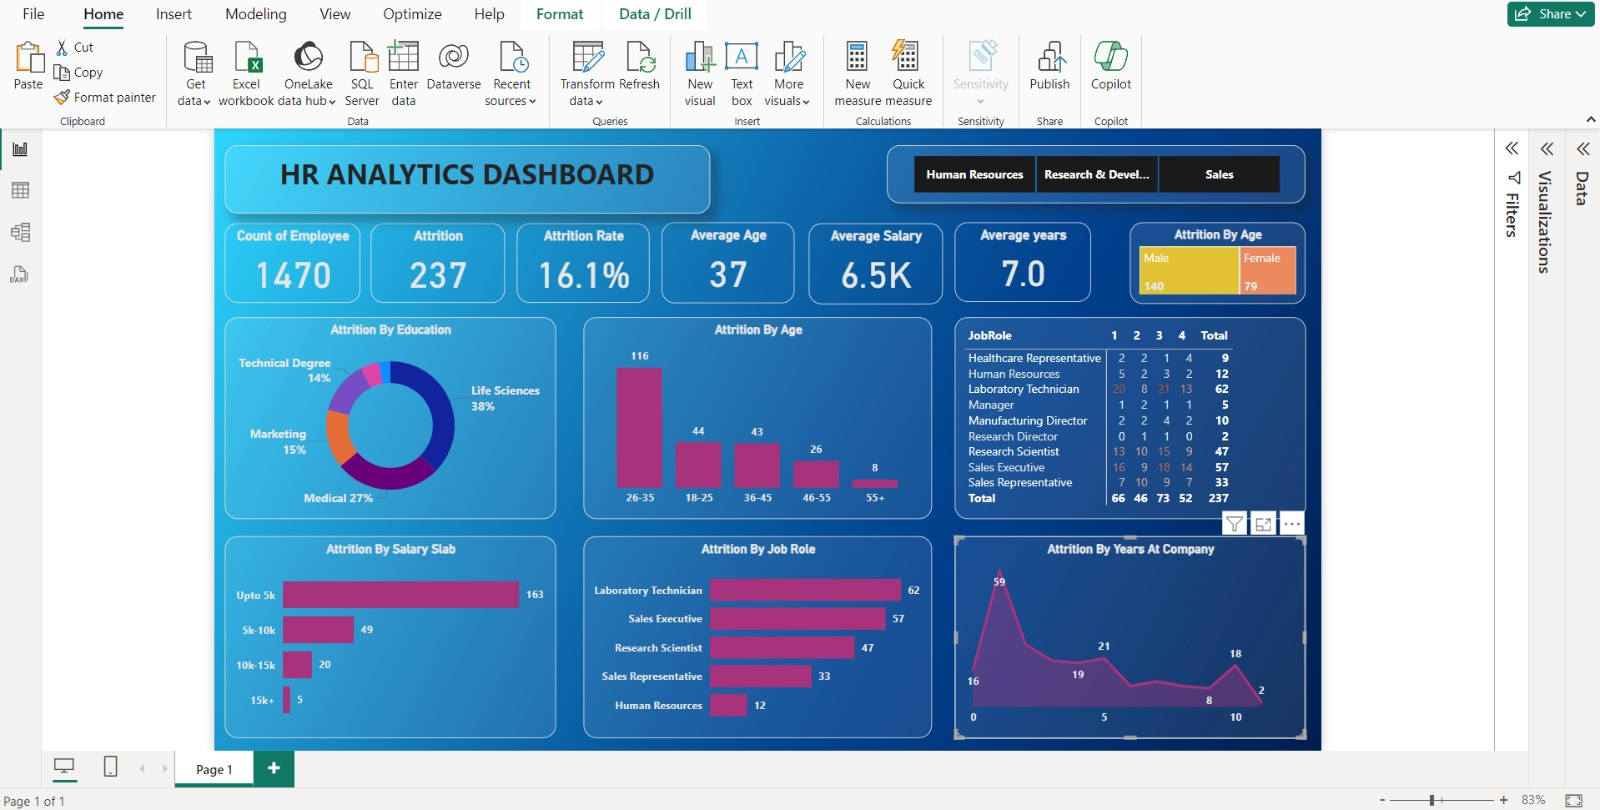

This screenshot's page, from the dashboard's own definition file:
{"tool":"powerbi","page":{"name":"Page 1","canvas":[1280,720],"ordinal":0},"visuals":[{"type":"card","title":"Count of Employee","fields":{"Values":["CountNonNull(HR_Analytics.EmpID)"]},"box":[12.3,109.8,156.4,91.9],"z":0},{"type":"card","title":"Attrition","fields":{"Values":["Sum(HR_Analytics.Attritioncount)"]},"box":[181.1,109.8,155.1,91.9],"z":1000},{"type":"card","title":"Attrition Rate","fields":{"Values":["HR_Analytics.AttritionRate"]},"box":[349.9,109.8,153.7,91.9],"z":2000},{"type":"card","title":"Average Age","fields":{"Values":["Avg(HR_Analytics.Age)"]},"box":[517.3,108.4,153.7,93.3],"z":3000},{"type":"card","title":"Average Salary","fields":{"Values":["Avg(HR_Analytics.MonthlyIncome)"]},"box":[687.5,109.8,155.1,93.3],"z":4000},{"type":"card","title":"Average years","fields":{"Values":["Avg(HR_Analytics.YearsAtCompany)"]},"box":[856.3,108.4,157.8,91.9],"z":5000},{"type":"donutChart","title":"Attrition By Education","fields":{"Category":["HR_Analytics.EducationField"],"Y":["Sum(HR_Analytics.Attritioncount)"]},"box":[12.3,218.2,382.8,233.3],"z":6000},{"type":"columnChart","title":"Attrition By Age","fields":{"Category":["HR_Analytics.AgeGroup"],"Y":["Sum(HR_Analytics.Attritioncount)"]},"box":[426.8,218.2,403.4,233.3],"z":6001},{"type":"pivotTable","fields":{"Rows":["HR_Analytics.JobRole"],"Columns":["HR_Analytics.JobSatisfaction"],"Values":["Sum(HR_Analytics.Attritioncount)"]},"box":[856.3,218.2,406.2,233.3],"z":6002},{"type":"barChart","title":"Attrition By Salary Slab","fields":{"Category":["HR_Analytics.SalarySlab"],"Y":["Sum(HR_Analytics.Attritioncount)"]},"box":[12.3,472,382.8,233.3],"z":6003},{"type":"barChart","title":"Attrition By Job Role","fields":{"Y":["Sum(HR_Analytics.Attritioncount)"],"Category":["HR_Analytics.JobRole"]},"box":[426.8,472,403.4,233.3],"z":6004},{"type":"areaChart","title":"Attrition By Years At Company","fields":{"Category":["HR_Analytics.YearsAtCompany"],"Y":["Sum(HR_Analytics.Attritioncount)"]},"box":[856.3,472,406.2,233.3],"z":6005},{"type":"treemap","title":"Attrition By Age","fields":{"Group":["HR_Analytics.Gender"],"Values":["Sum(HR_Analytics.Attritioncount)"]},"box":[1059.4,108.4,203.1,94.7],"z":6006},{"type":"slicer","fields":{"Values":["HR_Analytics.Department"]},"box":[778,19.2,484.4,67.2],"z":6007},{"type":"textbox","box":[12.3,19.2,561.2,79.6],"z":6008}]}

Visuals, with their boxes on the page's 1280x720 design canvas (x1, y1, x2, y2). These are canvas units, not pixel positions in the 1600x810 screenshot, which may show the page scaled, cropped or inside an application window:
"Count of Employee" card: Rect(12, 110, 169, 202)
"Attrition" card: Rect(181, 110, 336, 202)
"Attrition Rate" card: Rect(350, 110, 504, 202)
"Average Age" card: Rect(517, 108, 671, 202)
"Average Salary" card: Rect(688, 110, 843, 203)
"Average years" card: Rect(856, 108, 1014, 200)
"Attrition By Education" donutChart: Rect(12, 218, 395, 452)
"Attrition By Age" columnChart: Rect(427, 218, 830, 452)
pivotTable - HR_Analytics.JobRole x HR_Analytics.JobSatisfaction: Rect(856, 218, 1262, 452)
"Attrition By Salary Slab" barChart: Rect(12, 472, 395, 705)
"Attrition By Job Role" barChart: Rect(427, 472, 830, 705)
"Attrition By Years At Company" areaChart: Rect(856, 472, 1262, 705)
"Attrition By Age" treemap: Rect(1059, 108, 1262, 203)
slicer - HR_Analytics.Department: Rect(778, 19, 1262, 86)
textbox: Rect(12, 19, 574, 99)
